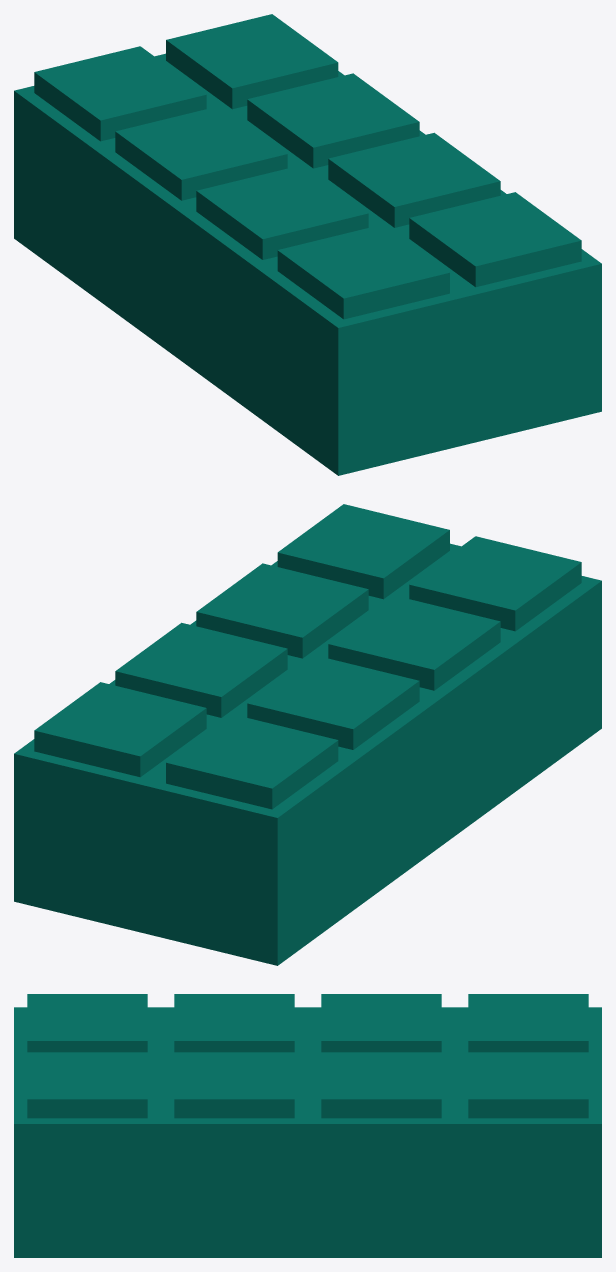
File: Lego_Part_2.fbx
3 views of the same model, one above another, from view 1: azimuth 30°, elevation 25°; view 2: azimuth 150°, elevation 25°; view 3: azimuth 270°, elevation 25° (orthographic). The views are drawn at different scales.
Parts seen in each view (by area): view 1: Lego_Part_2; view 2: Lego_Part_2; view 3: Lego_Part_2.
Boxes of the visible parts, x1,y1,x2,y2 form: Lego_Part_2: (14,14,601,475); Lego_Part_2: (14,504,601,965); Lego_Part_2: (14,994,601,1257).
Bounding box in the file's own units: 4.16 × 2.54 × 8.86.
Materials: 1 (1 with a texture image).
